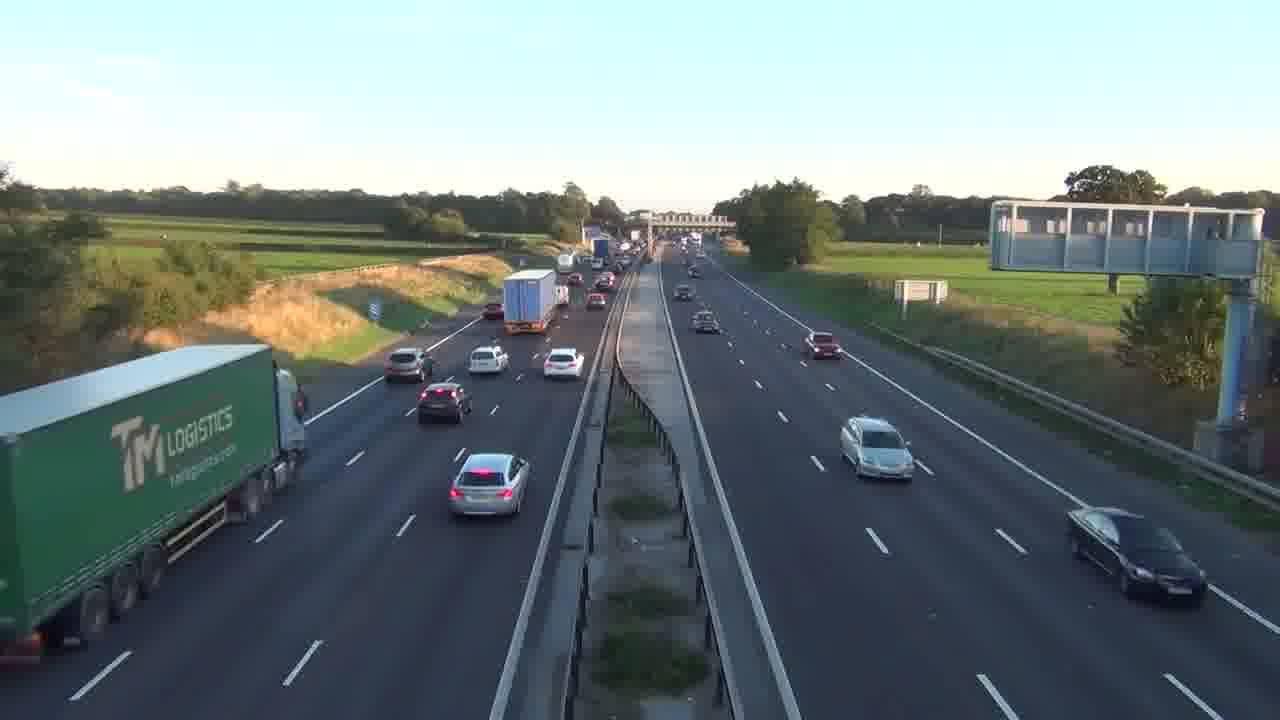car: (447, 452, 532, 519), (416, 381, 469, 423), (384, 348, 425, 383), (543, 347, 583, 381), (466, 344, 508, 374), (800, 331, 842, 360), (690, 310, 721, 334)
truck: (0, 343, 308, 656), (1065, 505, 1208, 606), (839, 415, 915, 481), (502, 268, 560, 334)
